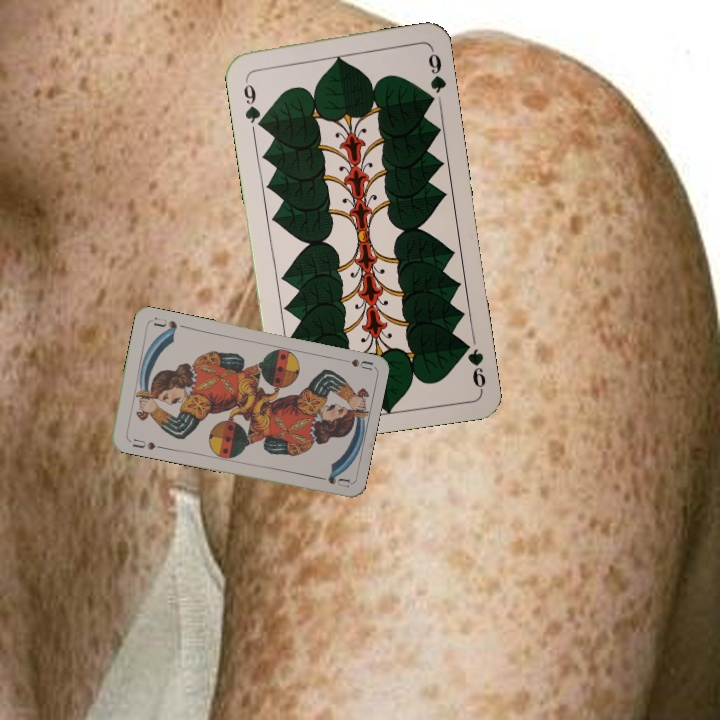G9: (457, 335, 489, 393), (239, 73, 267, 131)
SU: (333, 354, 374, 372), (124, 435, 158, 452)
